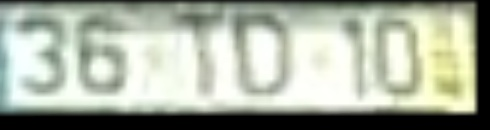0: (375, 16, 427, 105)
1: (339, 15, 372, 106)
3: (10, 9, 73, 105)
6: (72, 14, 134, 107)
D: (233, 12, 296, 103)
T: (170, 13, 230, 105)
